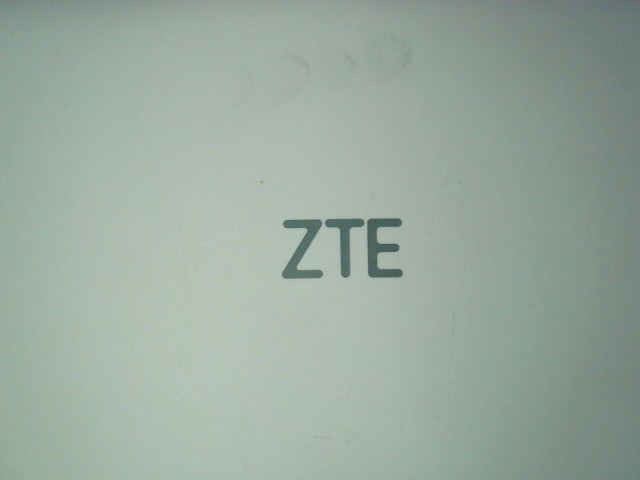AN_ZTE: (270, 208, 413, 286)
